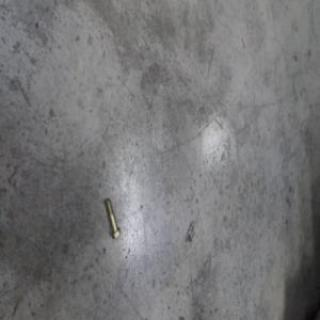Bolttrack_idkeyframe: (102, 197, 120, 241)
